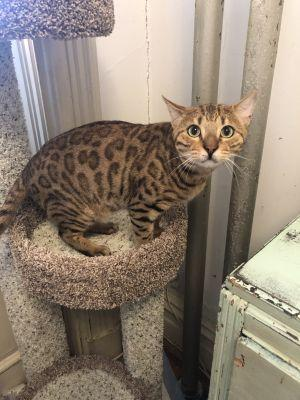bengal: (158, 90, 269, 182)
